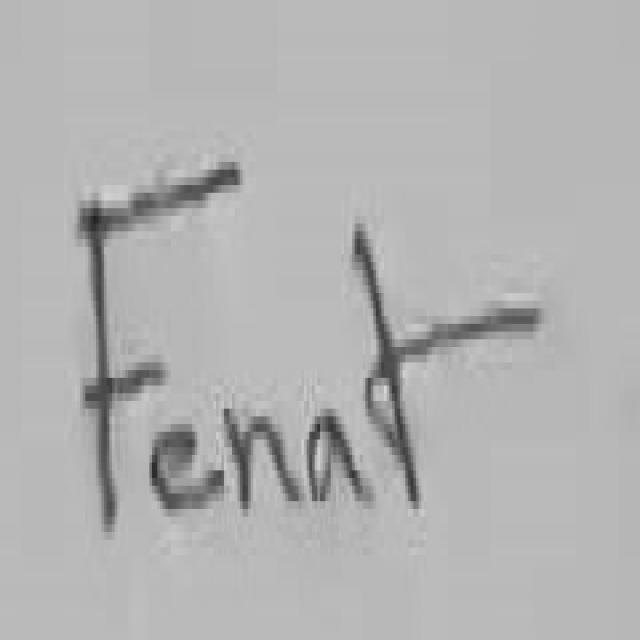F: (80, 162, 240, 528)
a: (309, 416, 365, 501)
e: (152, 432, 224, 509)
n: (224, 409, 301, 509)
t: (355, 224, 541, 509)
